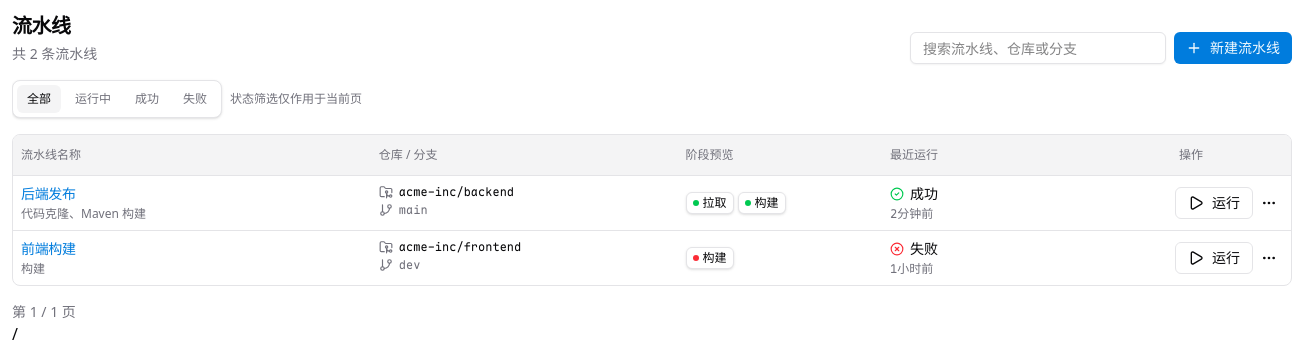
PipelineListPage › TC-UX08-02: name link remains keyboard accessible
This screenshot has width=1292, height=361.
What coordinates should you click on to do the following:
click the link to "/pipeline/pipelines/1"
I would click on:
 (48, 194)
Its box is left=21, top=184, right=76, bottom=202.
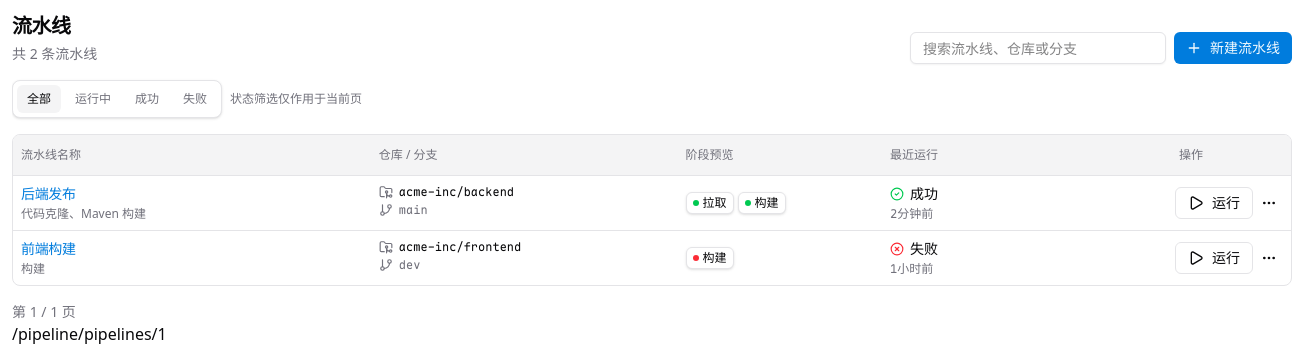
expect the text with test id "location" reads "/pipeline/pipelines/1": met, box left=12, top=322, right=167, bottom=344
